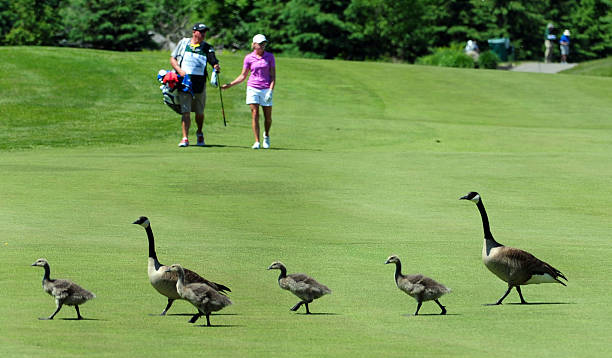goose: (458, 191, 570, 310), (131, 215, 234, 325), (29, 257, 100, 322), (383, 254, 452, 318), (165, 263, 232, 328), (266, 260, 333, 320)
